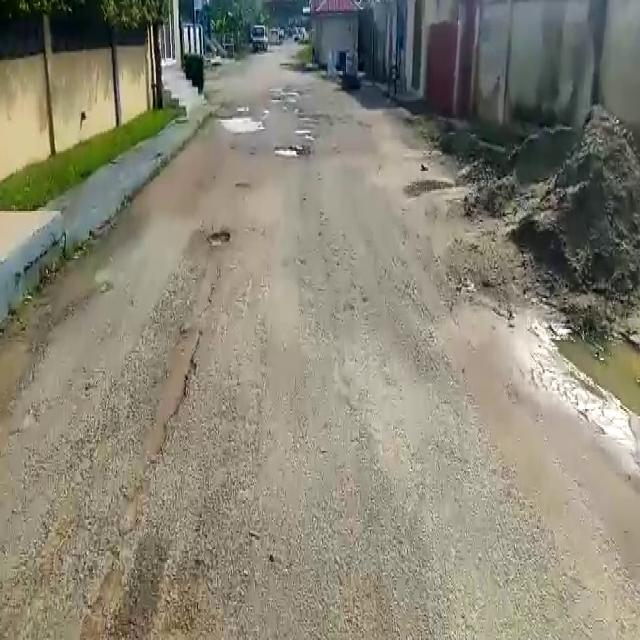Pothole: (216, 113, 266, 135), (270, 142, 308, 158), (207, 230, 232, 248)
